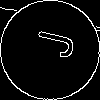J: (25, 25, 76, 61)
